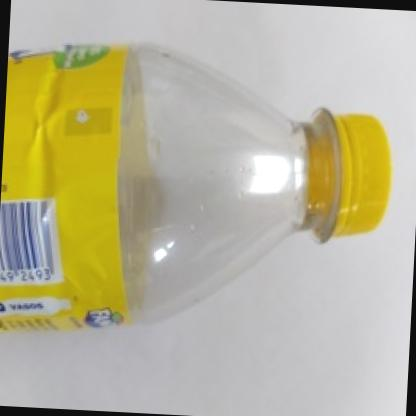plastic_bottles: (0, 35, 402, 358)
